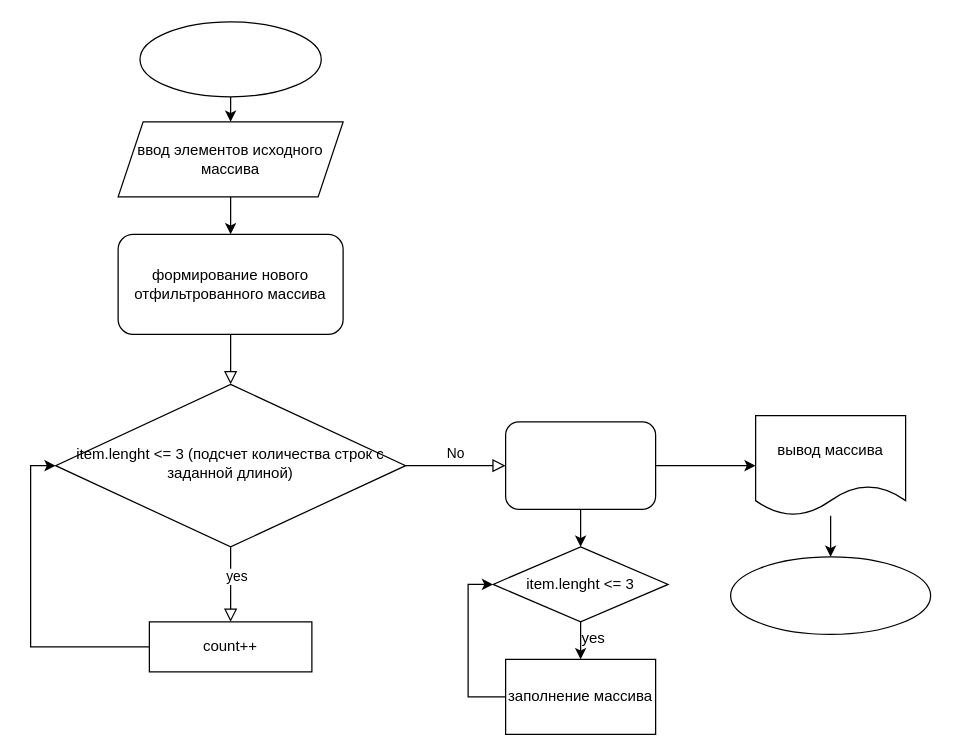
This 953x756 diagram has some shape labels left out. The centre of each missing label's shape, as x and y in pixels:
end: (830,595)
start: (230,59)
создание нового массива с длиной = count: (580,465)
